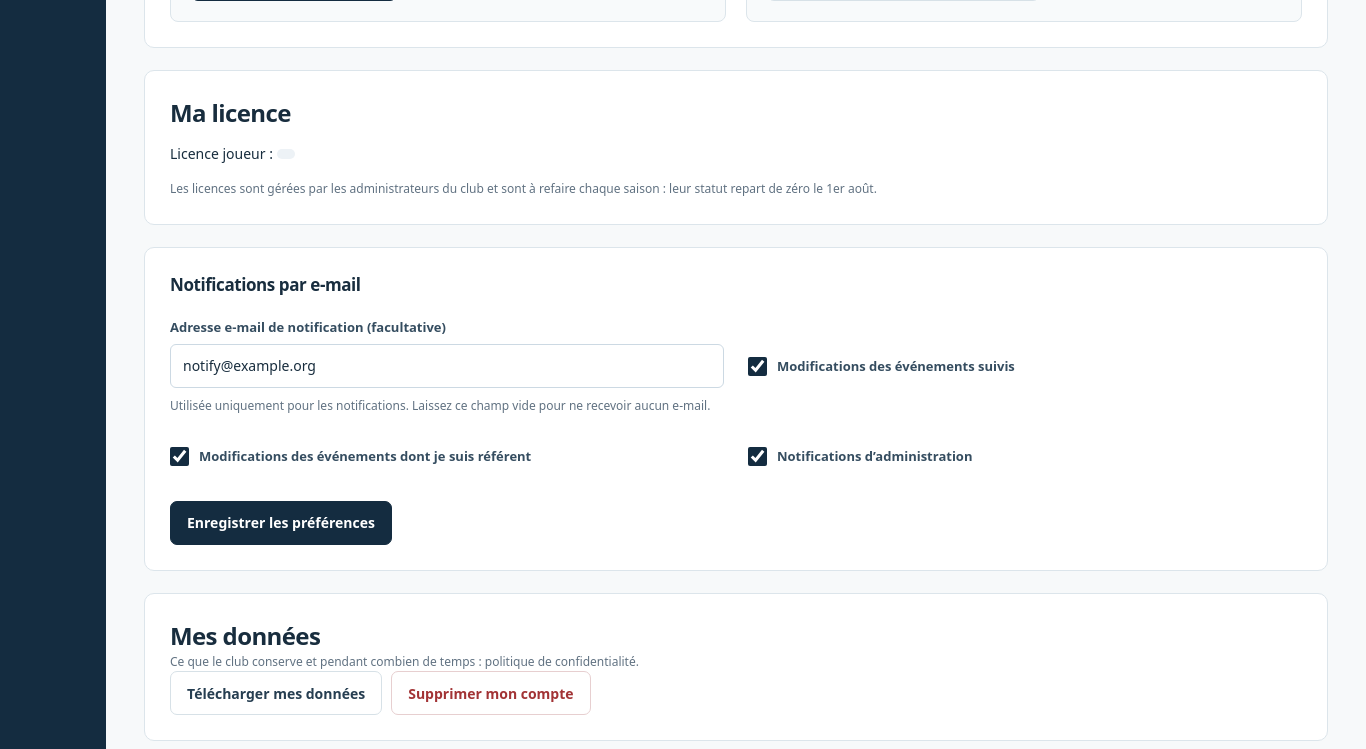
Test case: permet d’effacer l’adresse facultative depuis les préférences de notification
(page scrolled)
Clear the field labelled "Adresse e-mail de notification (facultative)". click: (447, 366)
box: [170, 344, 724, 388]
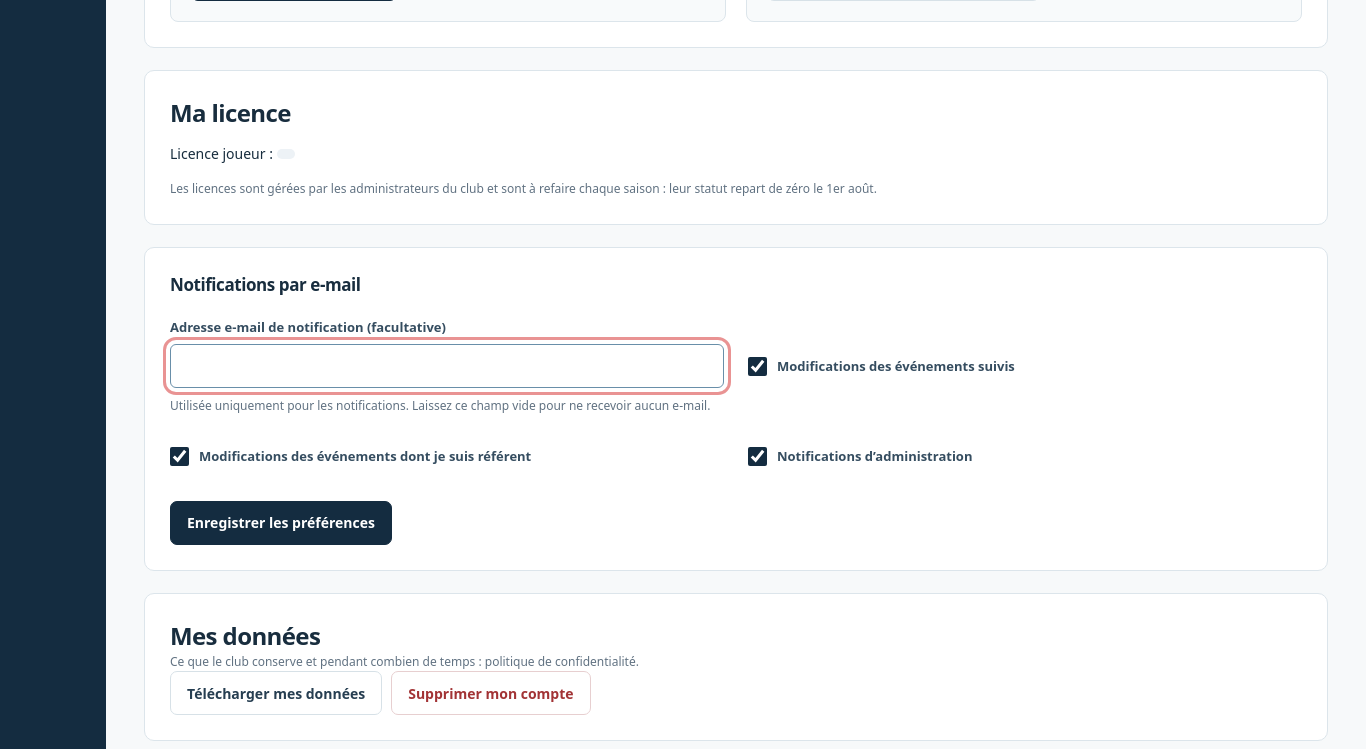
Click the button "Enregistrer les préférences". click: click(281, 523)
box: [170, 501, 392, 545]
(page scrolled)
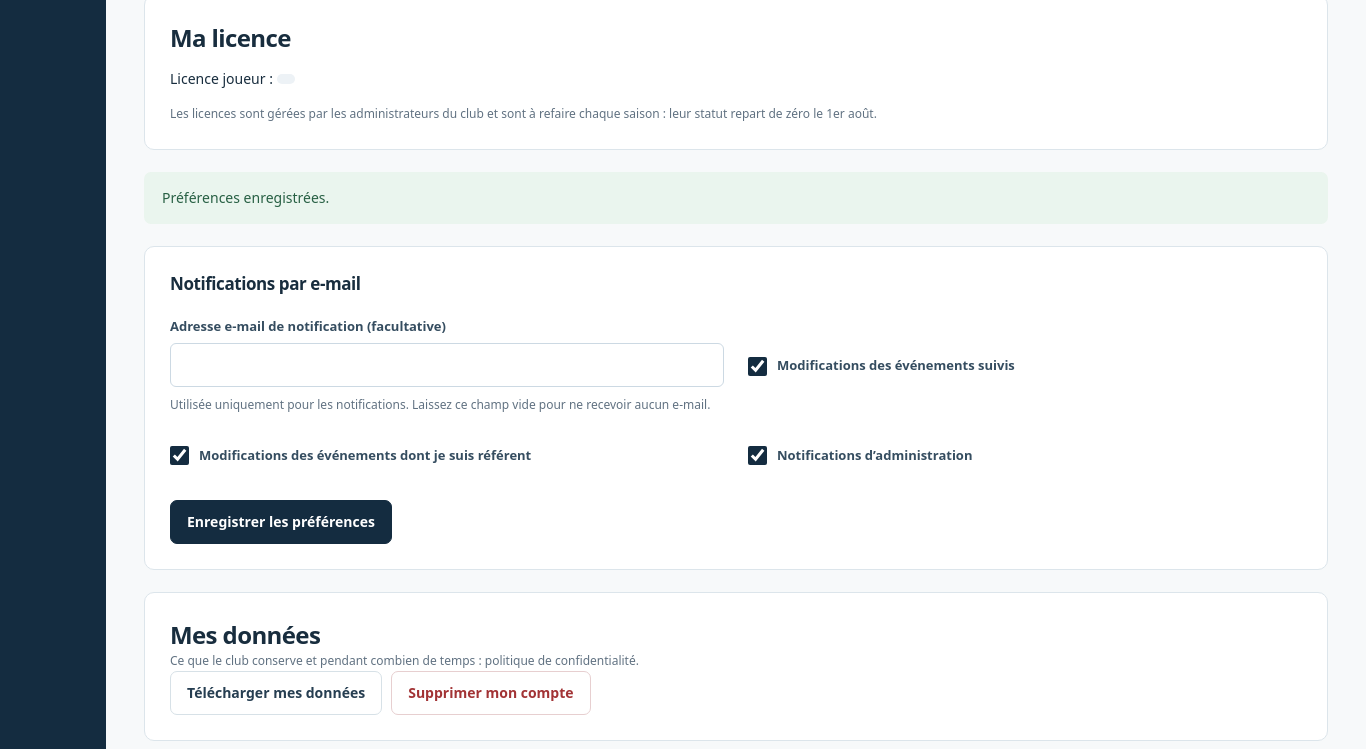
expect the text "Préférences enregistrées." is shown: met, box [144, 172, 1328, 224]
